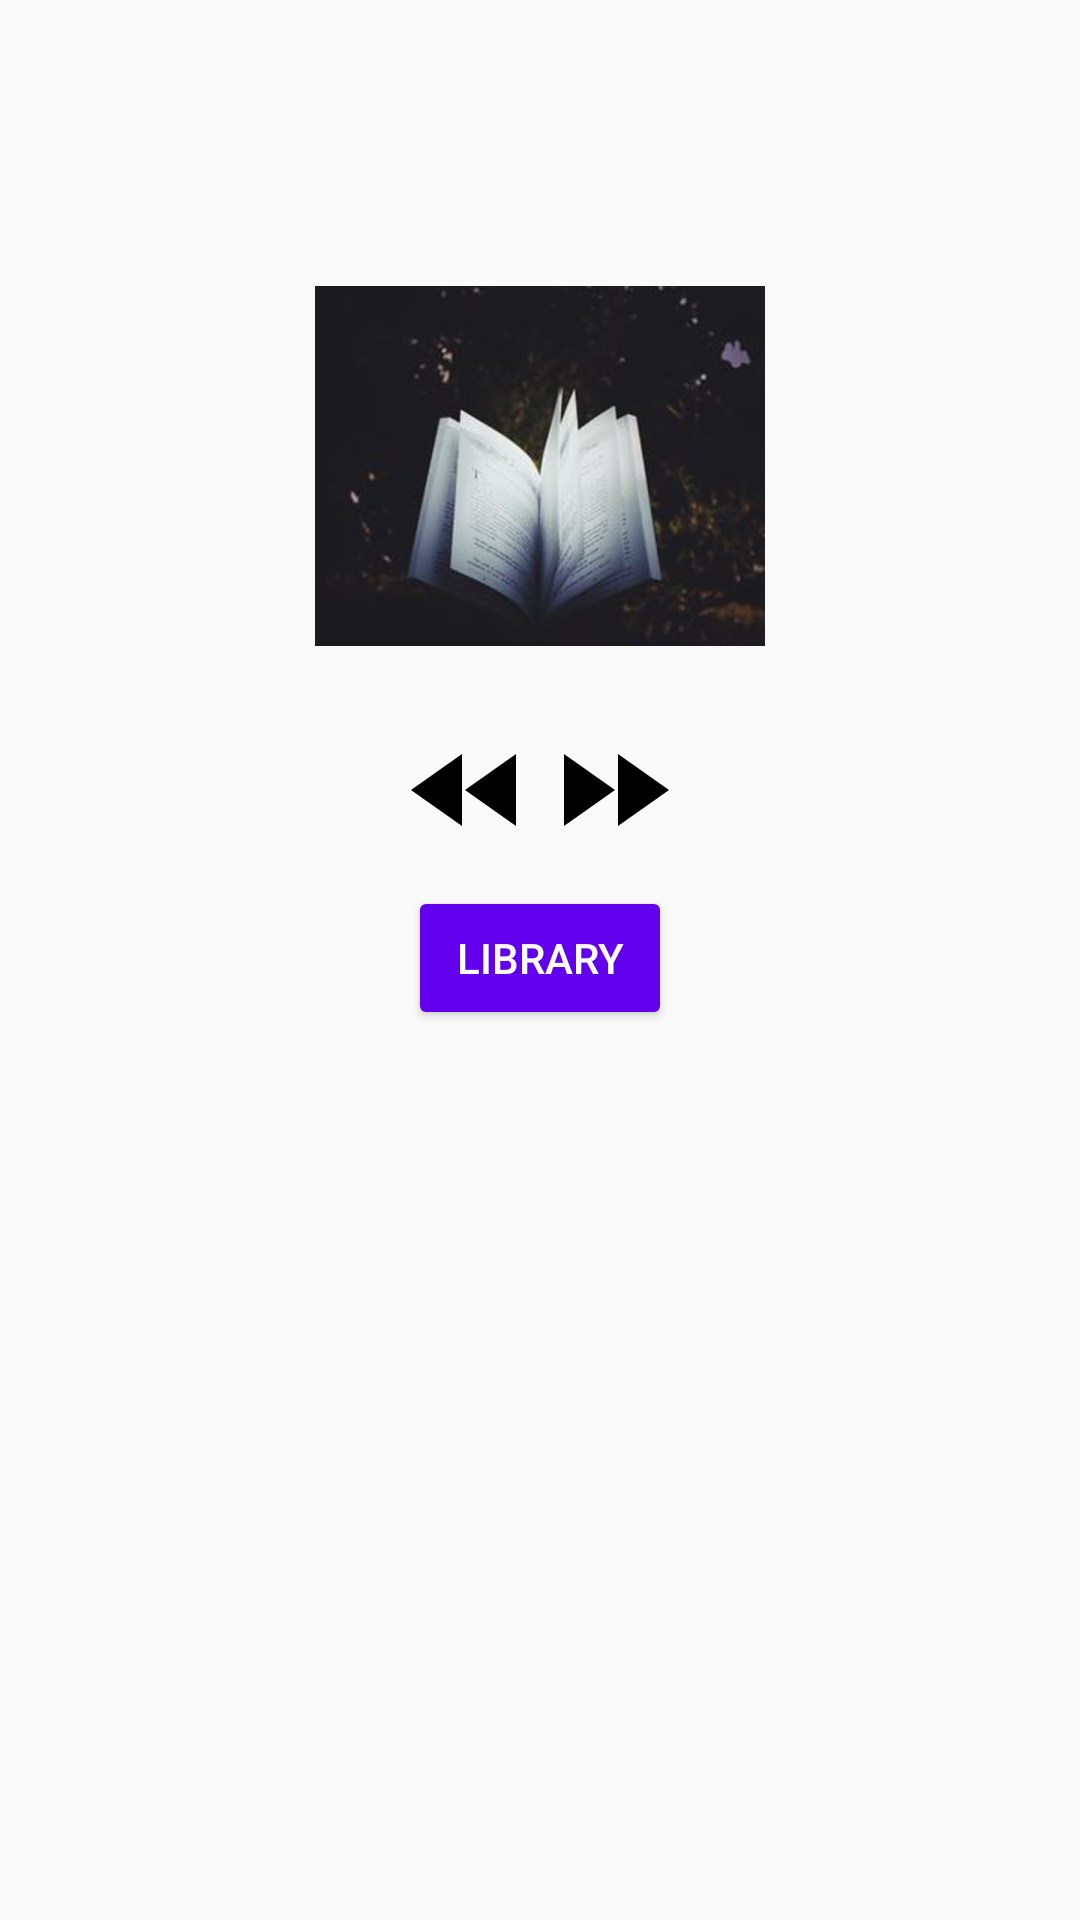

Where to tap for icons on this 1080w x 1920h app screen, as (x,y):
Fast Forward Button: (616,790)
Fast Rewind Button: (463,790)
